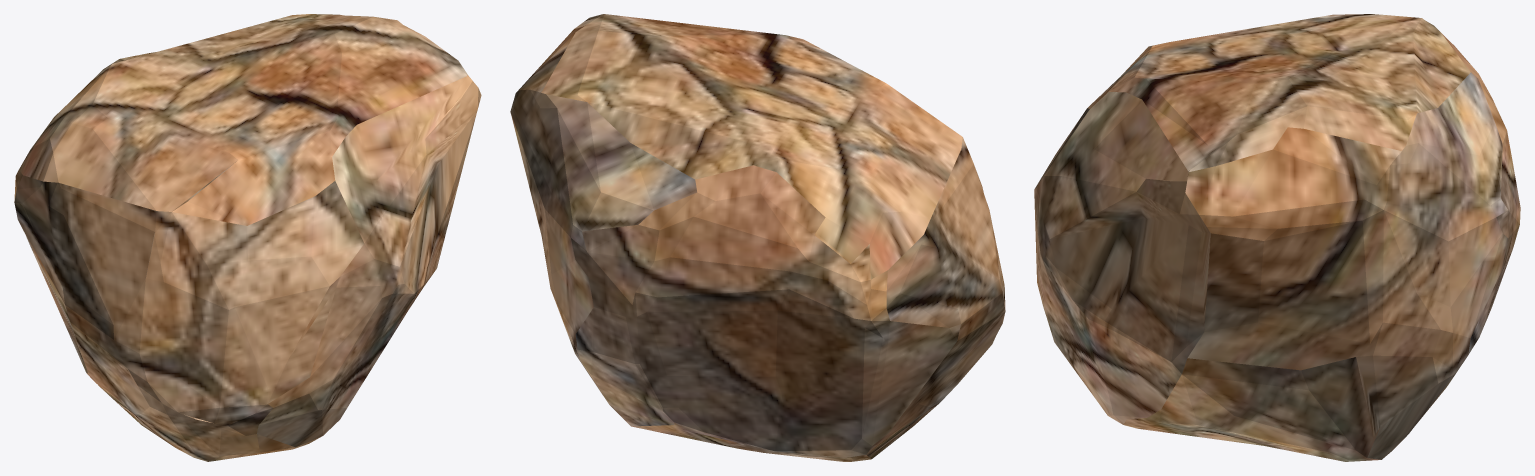
The model's file is iwau.fbx.
The picture shows the model from 3 angles, left to right: view 1: azimuth 30°, elevation 25°; view 2: azimuth 150°, elevation 25°; view 3: azimuth 270°, elevation 25°; orthographic projection. The views are drawn at different scales.
Visible parts, largest first — view 1: iwa; view 2: iwa; view 3: iwa.
Boxes of the visible parts, x1,y1,x2,y2 form: iwa: (14,14,481,461); iwa: (510,14,1005,461); iwa: (1034,14,1520,461).
Size of the model in its own units: 361 by 311 by 332.
Materials: 1 (1 with a texture image).
